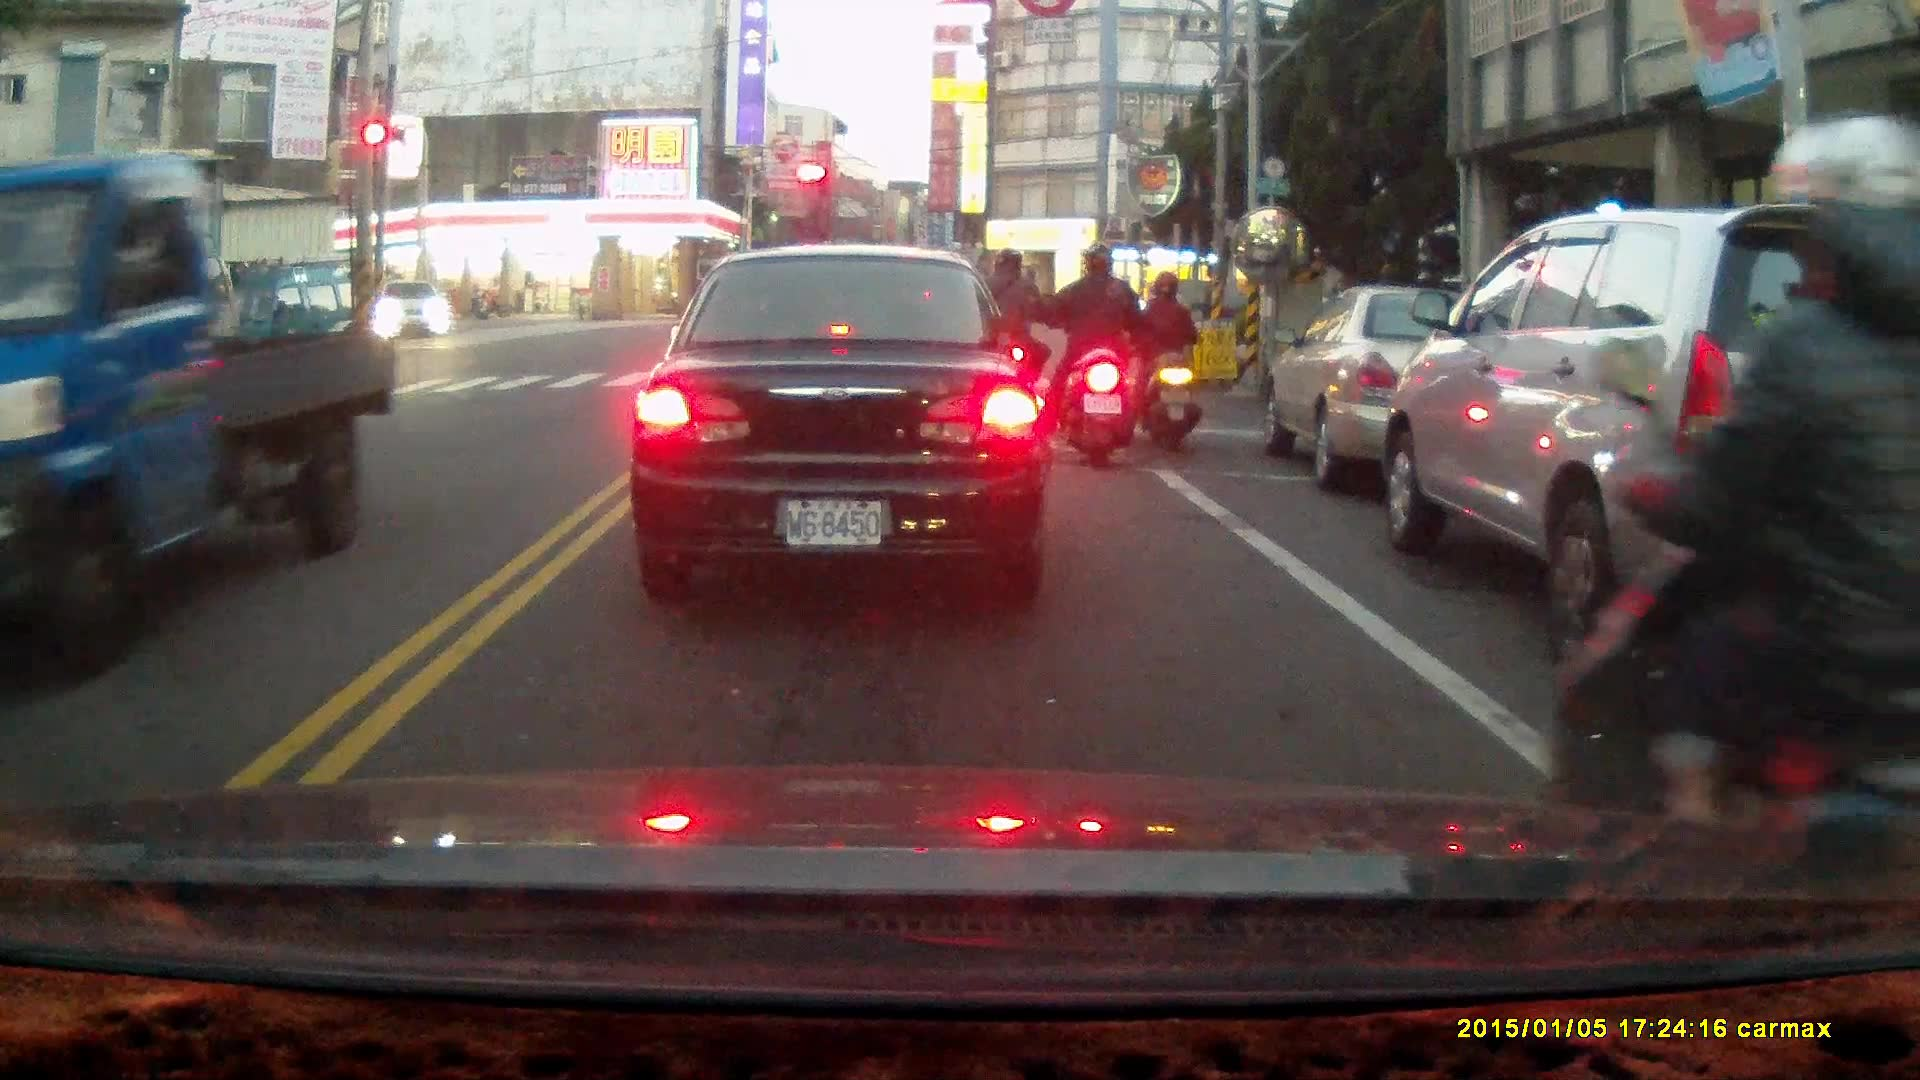rider: (1550, 112, 1920, 984), (1037, 244, 1144, 468), (964, 253, 1047, 432), (1131, 272, 1200, 451)
vehicle: (1379, 201, 1920, 680), (1, 160, 398, 668), (633, 249, 1042, 601), (1258, 287, 1570, 493), (202, 264, 388, 396), (372, 277, 451, 343)
